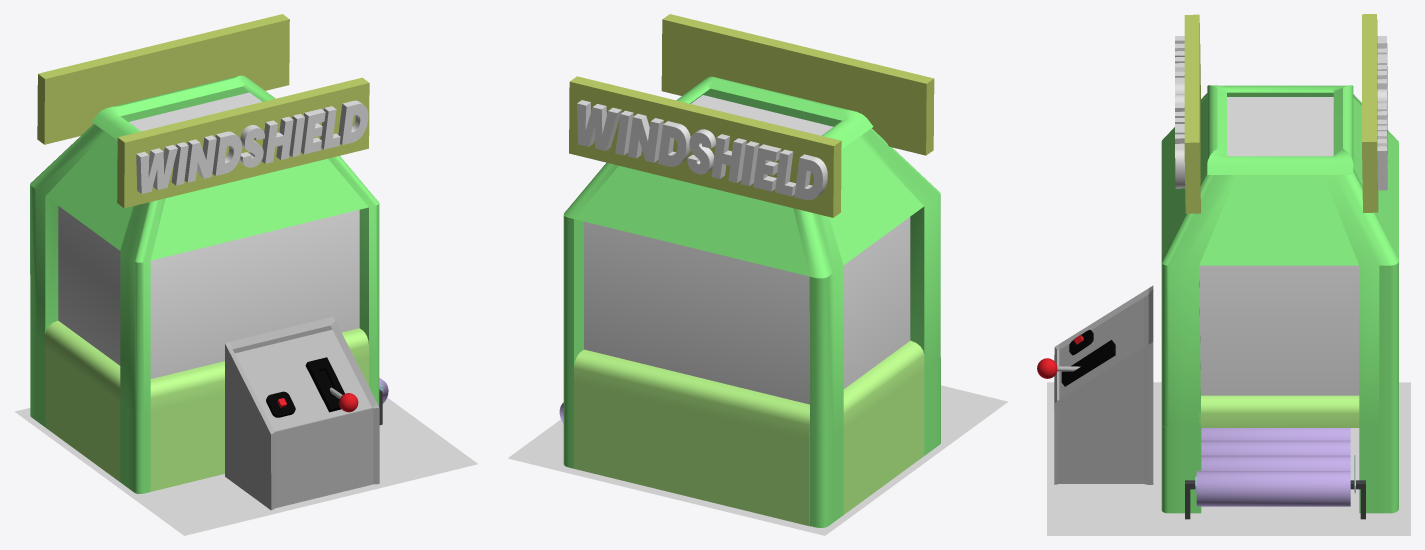
Rendered from ST Winshiled v2.fbx.
3 renders of one model, left to right at view 1: azimuth 30°, elevation 25°; view 2: azimuth 150°, elevation 25°; view 3: azimuth 270°, elevation 25°, orthographic. The views are drawn at different scales.
Parts seen in each view (by area): view 1: Frame.001, Icon.001, Button, Plane; view 2: Frame.001, Icon.001, Plane; view 3: Frame.001, Plane, Button, Roller, Icon.001, Button.001.
Part boxes in pixels (bbox=[...]): Frame.001: bbox=[30, 75, 379, 493]; Icon.001: bbox=[37, 14, 369, 208]; Button: bbox=[225, 316, 379, 510]; Plane: bbox=[15, 397, 478, 535]; Frame.001: bbox=[563, 76, 940, 527]; Icon.001: bbox=[569, 14, 934, 217]; Plane: bbox=[508, 385, 1007, 535]; Frame.001: bbox=[1161, 85, 1398, 513]; Plane: bbox=[1047, 382, 1410, 535]; Button: bbox=[1054, 285, 1153, 484]; Roller: bbox=[1185, 428, 1365, 519]; Icon.001: bbox=[1175, 14, 1387, 213]; Button.001: bbox=[1037, 358, 1080, 378].
Size of the model in its own units: 151 by 170 by 155.
